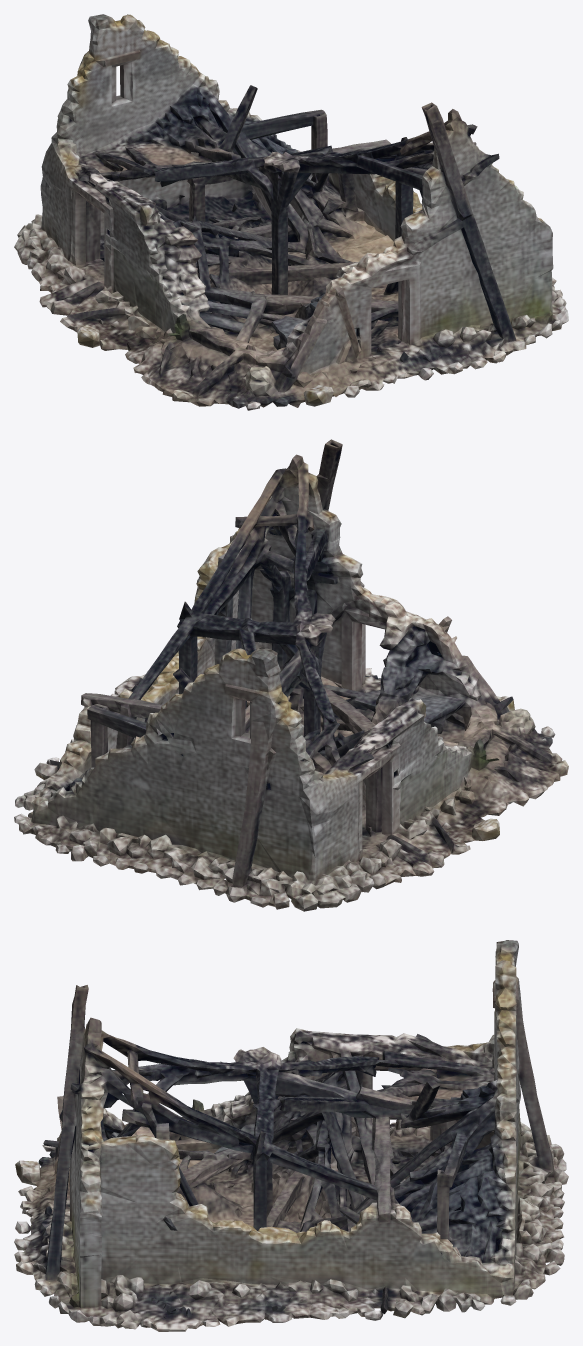
File: barn_ruin.obj
3 renders of one model, top to bottom at view 1: azimuth 30°, elevation 25°; view 2: azimuth 150°, elevation 25°; view 3: azimuth 270°, elevation 25°, orthographic. The views are drawn at different scales.
Parts seen in each view (by area): view 1: barn_ruin; view 2: barn_ruin; view 3: barn_ruin.
Boxes of the visible parts, x1=… form: barn_ruin: x1=14, y1=14, x2=568, y2=410; barn_ruin: x1=14, y1=439, x2=568, y2=911; barn_ruin: x1=14, y1=940, x2=568, y2=1331.
Size of the model in its own units: 10.3 by 6.51 by 11.
1 material, 1 textured.
